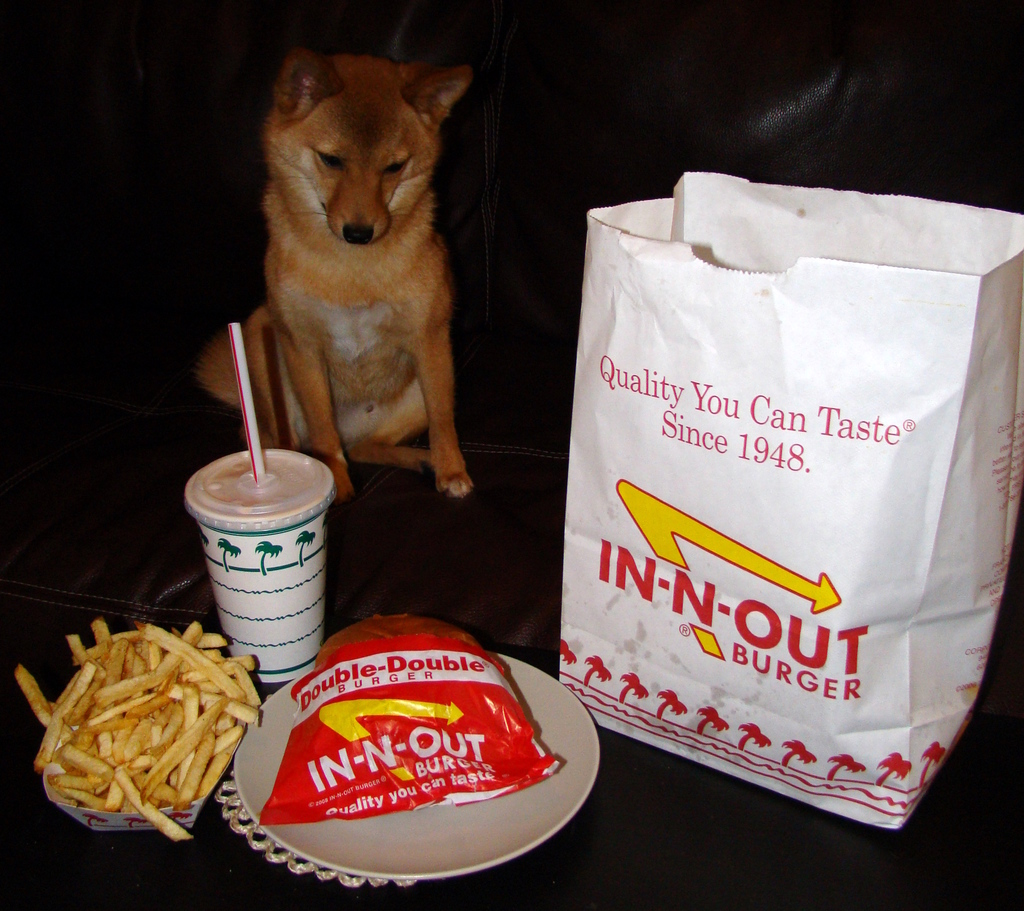French fries: (21, 620, 263, 848)
